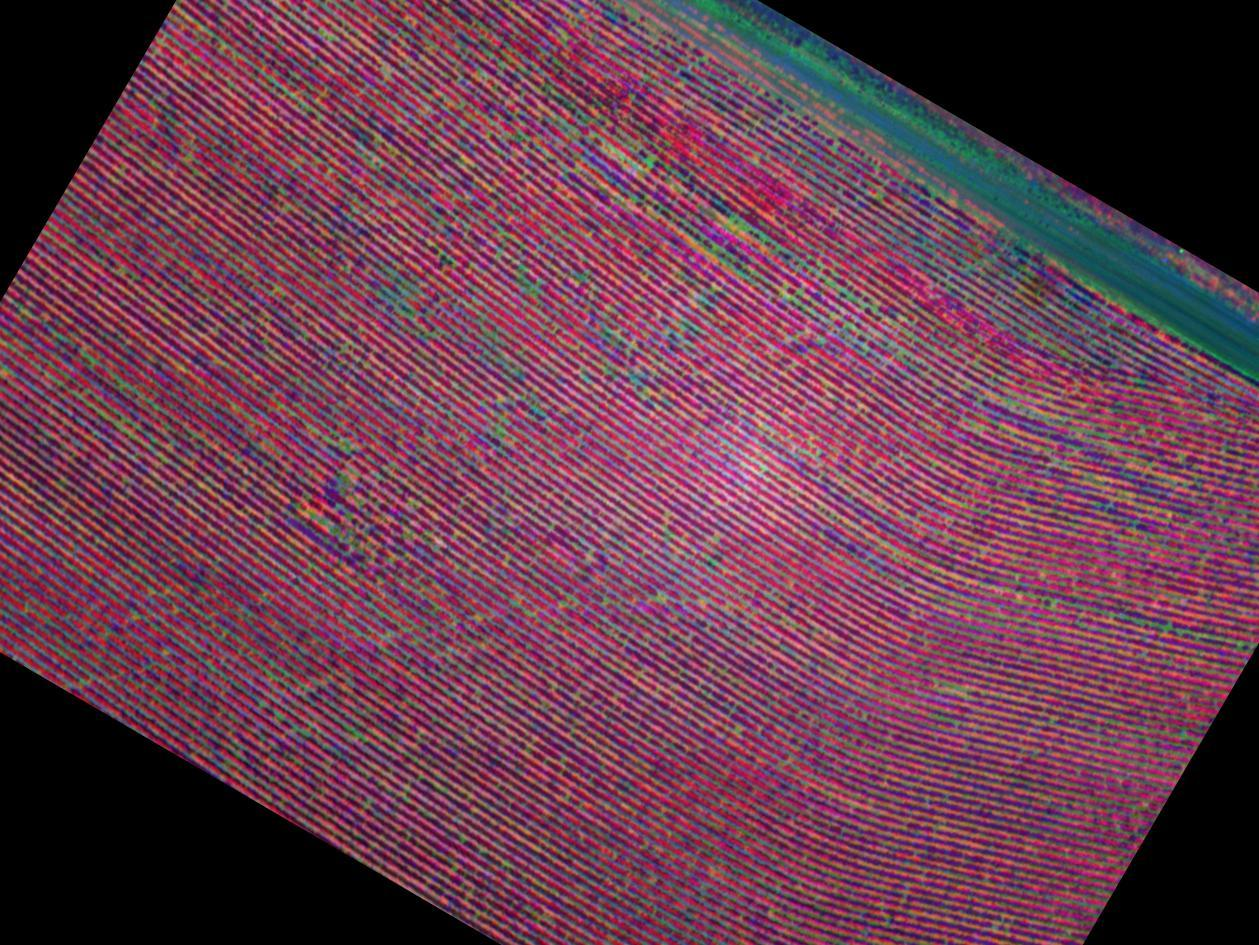dc: (368, 245, 472, 353), (581, 95, 682, 192), (725, 212, 828, 295)
